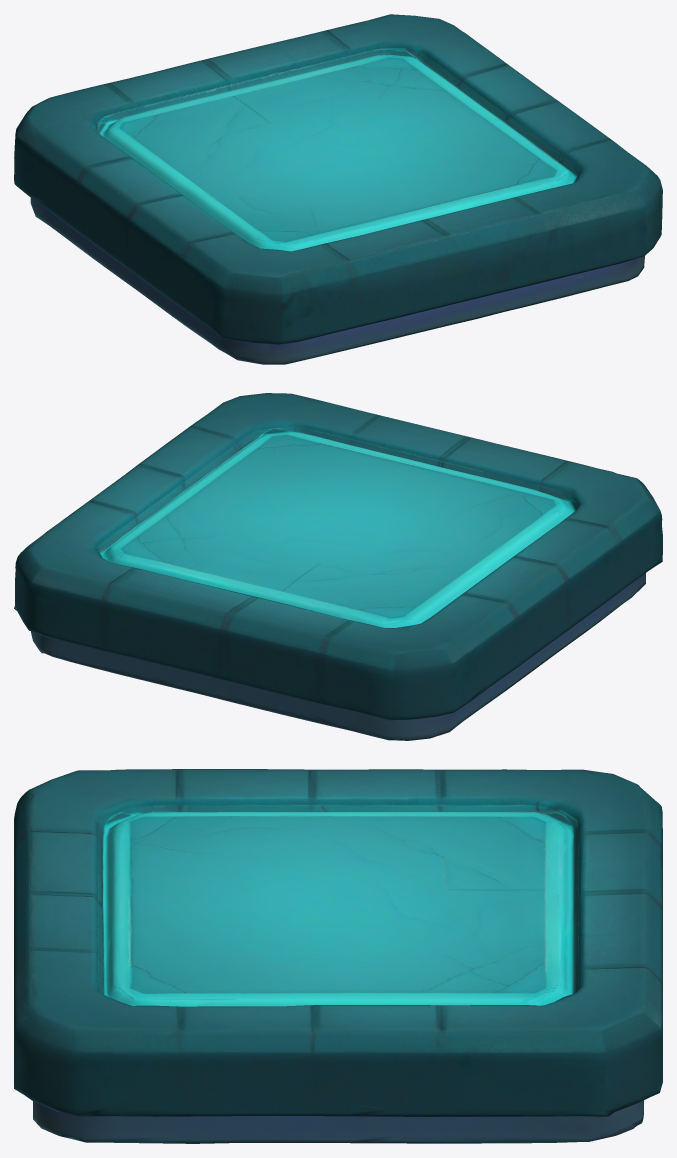
File: floating.glb
3 renders of one model, top to bottom at view 1: azimuth 30°, elevation 25°; view 2: azimuth 150°, elevation 25°; view 3: azimuth 270°, elevation 25°, orthographic. The views are drawn at different scales.
Size of the model in its own units: 2 by 0.3976 by 2.
Materials: 1 (1 with a texture image).
